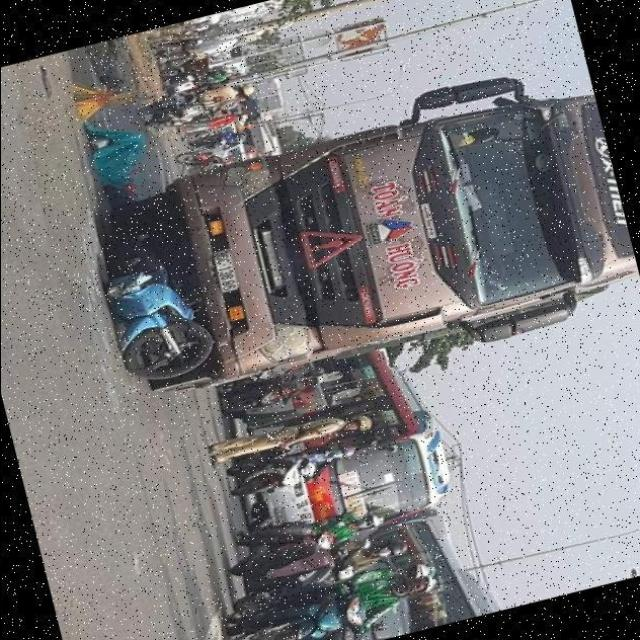accident: (60, 189, 254, 407)
